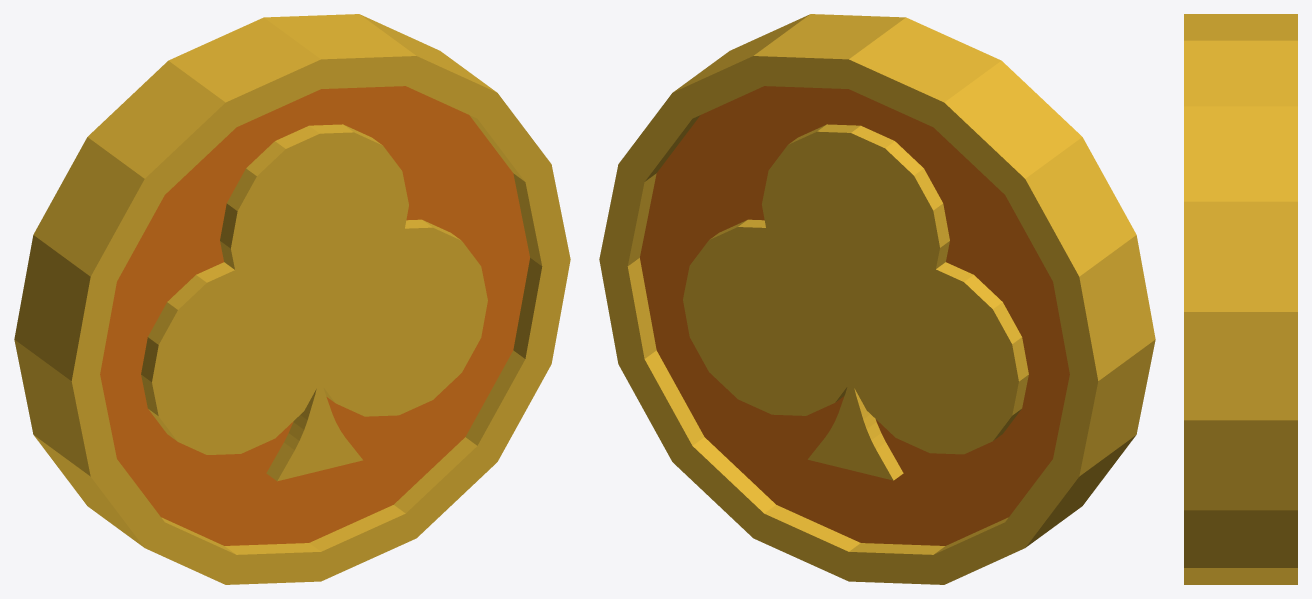
Rendered from coin06.fbx.
3 renders of one model, left to right at view 1: azimuth 30°, elevation 25°; view 2: azimuth 150°, elevation 25°; view 3: azimuth 270°, elevation 25°, orthographic.
Visible parts, largest first — view 1: Coin06; view 2: Coin06; view 3: Coin06.
Part boxes in pixels (left/top/right/bottom): Coin06: left=14, top=14, right=570, bottom=584; Coin06: left=599, top=14, right=1155, bottom=584; Coin06: left=1184, top=14, right=1297, bottom=584.
Bounding box in the file's own units: 84.1 × 84.1 × 16.74.
